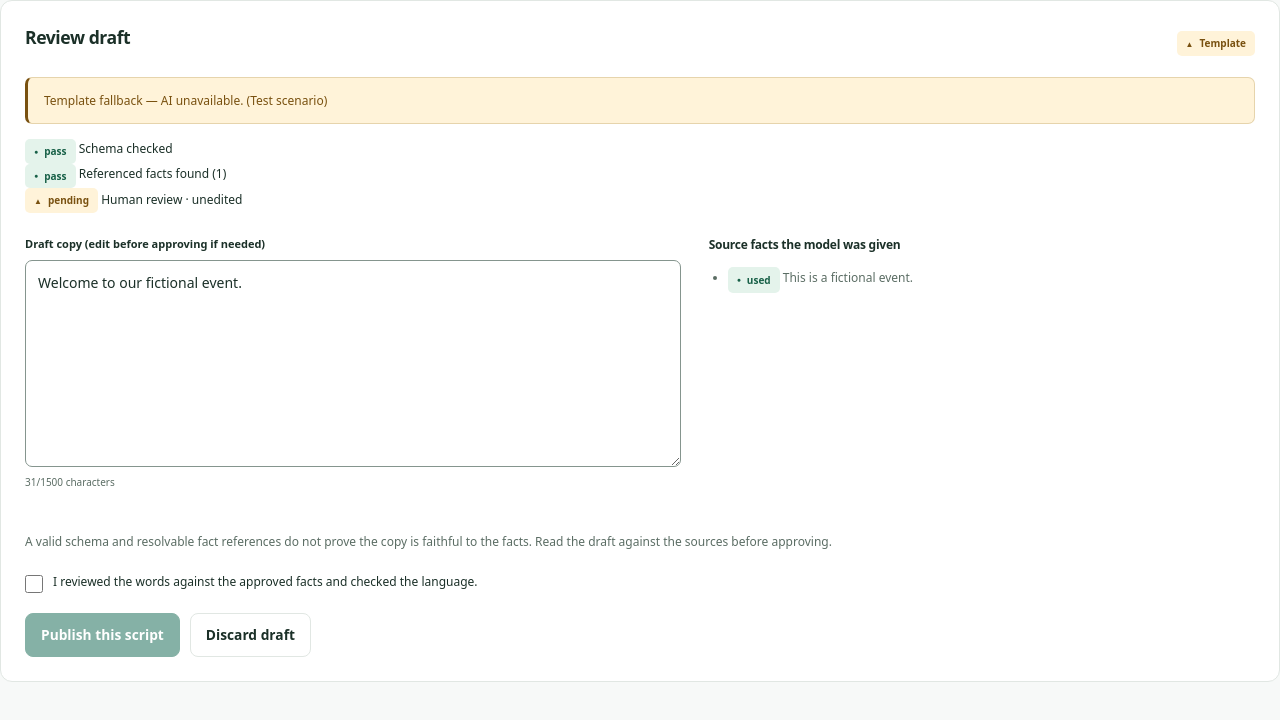
Test: requires human review and resets it when the words change
Expected: the button "Publish this script" is disabled, [25, 613, 180, 657]
Click the checkbox at {"x": 34, "y": 584}, box [25, 575, 43, 593]
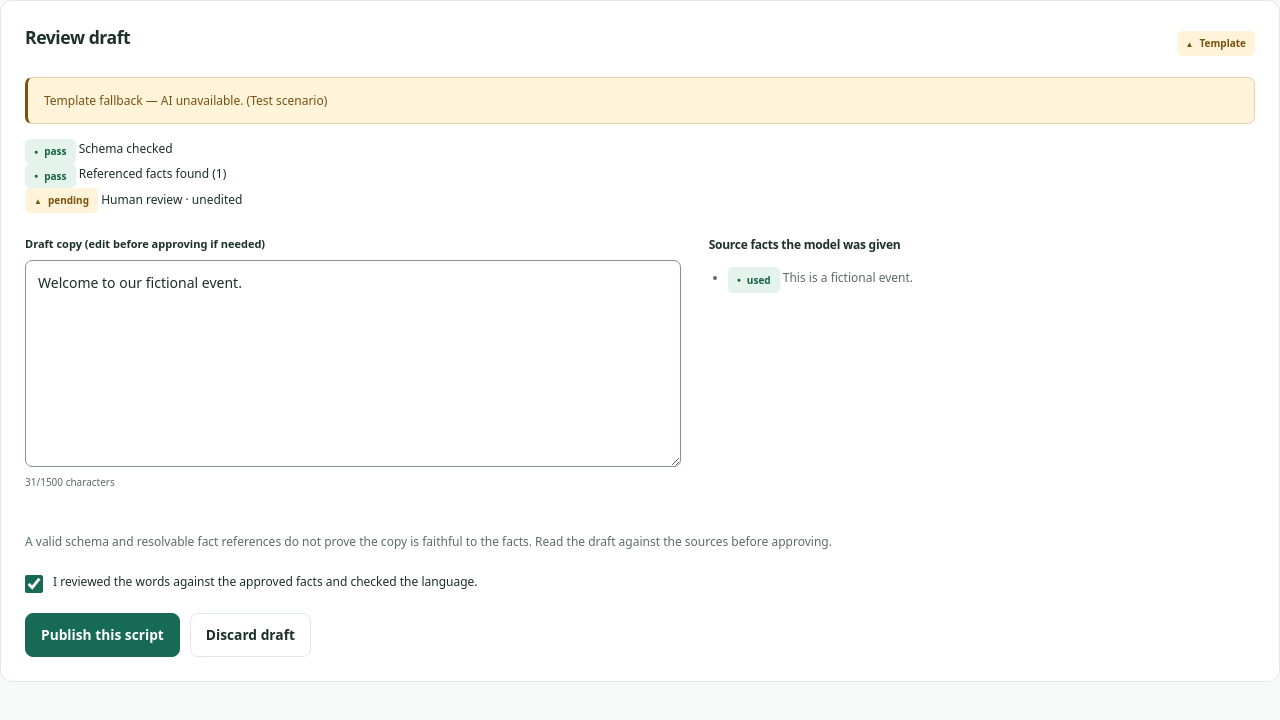
Now the button "Publish this script" is enabled, box [25, 613, 180, 657]
Replace the text in the text box labelled "Draft copy (edit before approving if needed)" with "Changed copy" at {"x": 353, "y": 364}, box [25, 260, 681, 467]
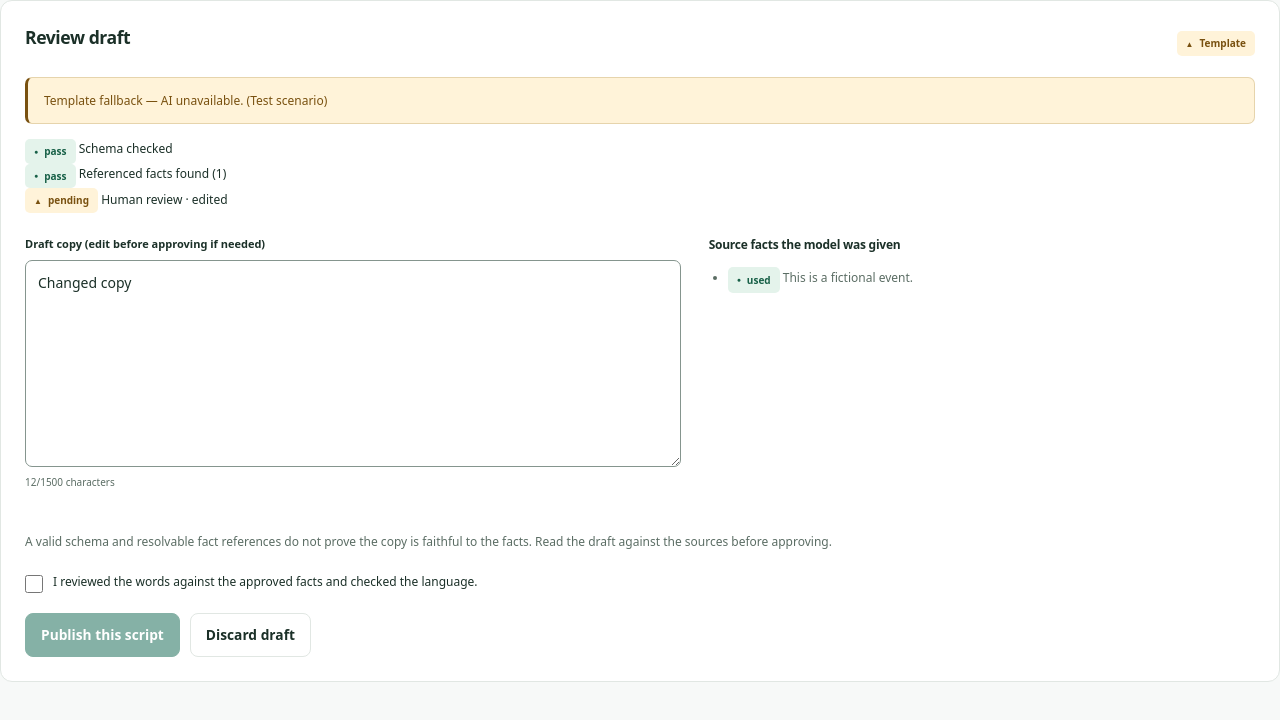
Now the button "Publish this script" is disabled, box [25, 613, 180, 657]
